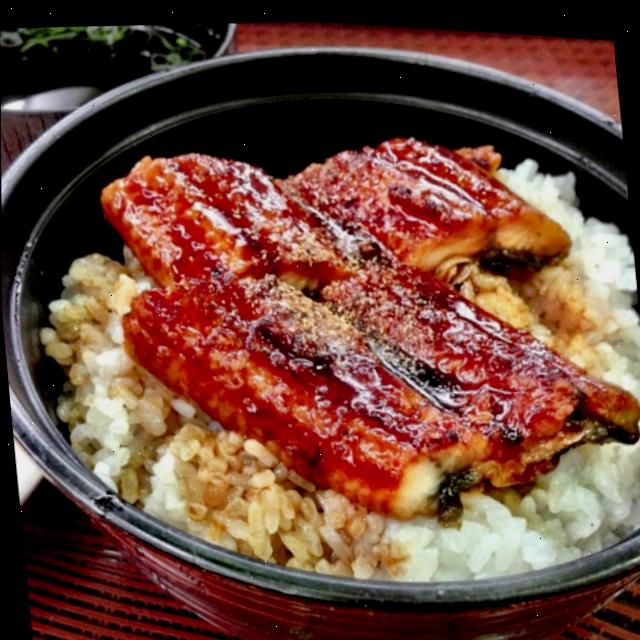熟制海鲜: (0, 34, 640, 636)
